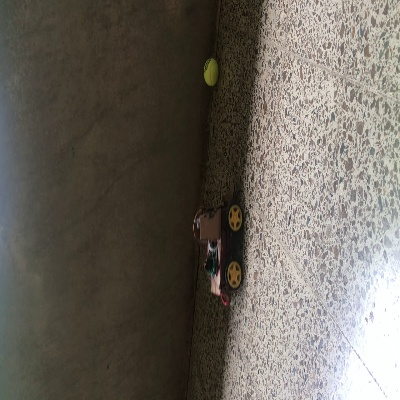Ball: (203, 57, 217, 86)
Robot: (191, 182, 244, 296)
